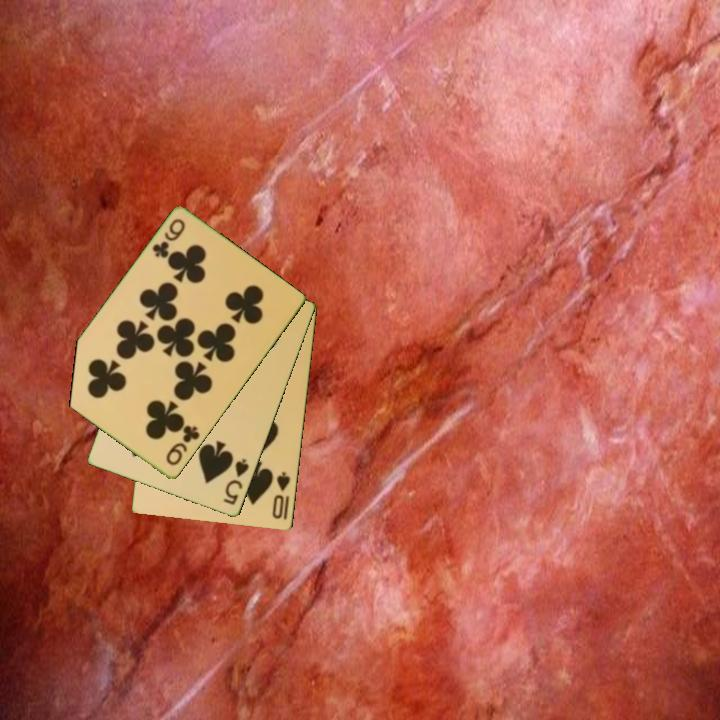10s: (269, 469, 293, 522)
5s: (220, 455, 252, 508)
9c: (162, 422, 203, 469), (148, 215, 188, 262)
